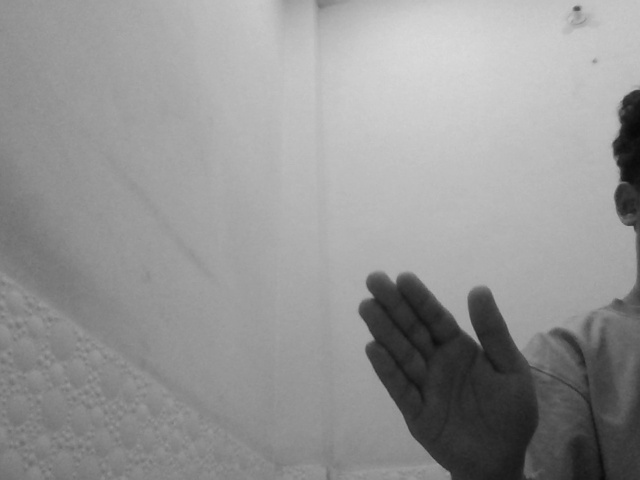Hello: (356, 266, 545, 478)
